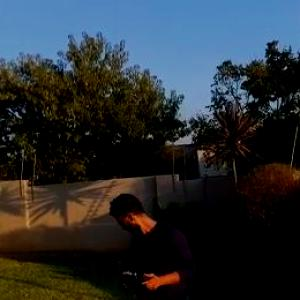follow: (105, 189, 202, 299)
